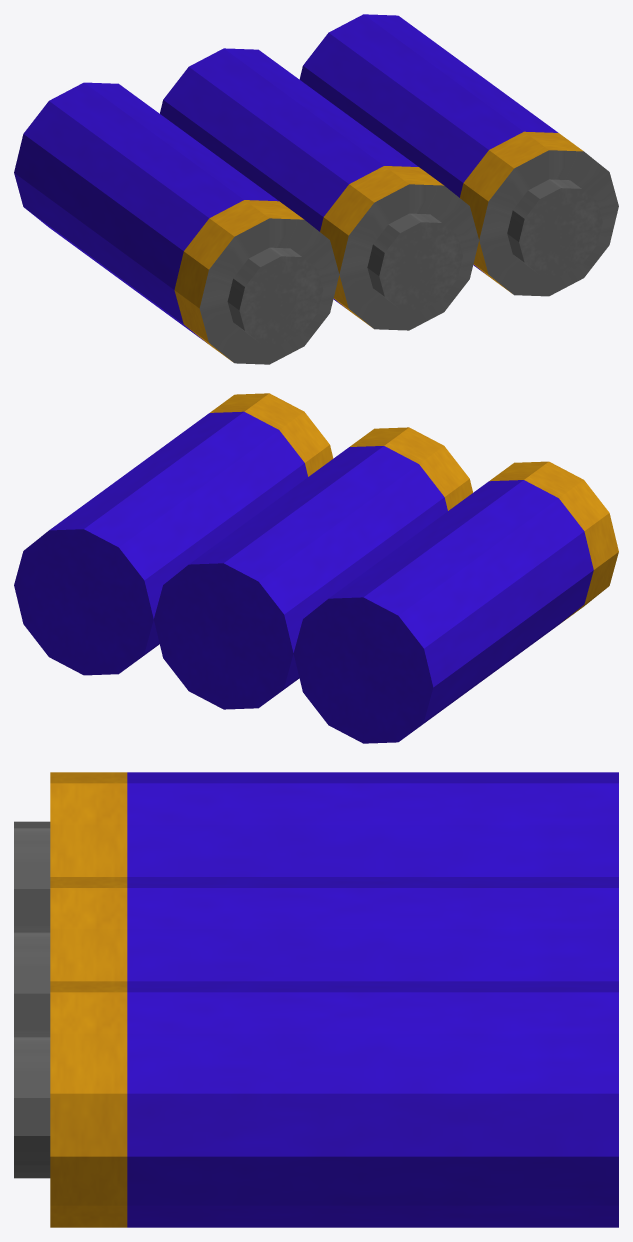
Rendered from mod_item_batteryPack.fbx.
3 views of the same model, one above another, from view 1: azimuth 30°, elevation 25°; view 2: azimuth 150°, elevation 25°; view 3: azimuth 270°, elevation 25° (orthographic). The views are drawn at different scales.
Visible parts, largest first — view 1: mesh_item_battery; view 2: mesh_item_battery; view 3: mesh_item_battery.
Part boxes in pixels (left/top/right/bottom): mesh_item_battery: left=14, top=14, right=618, bottom=364; mesh_item_battery: left=14, top=393, right=618, bottom=743; mesh_item_battery: left=14, top=772, right=618, bottom=1227.
Bounding box in the file's own units: 600 × 200 × 489.
